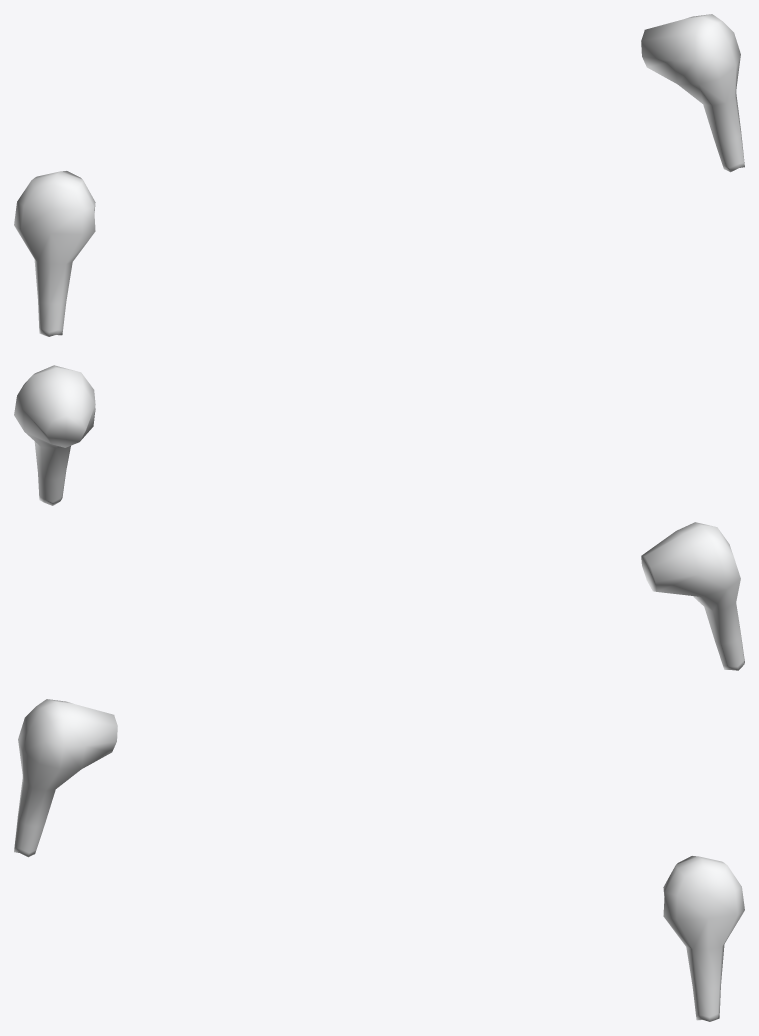
Rendered from Headphones_02.glb.
The picture shows the model from 3 angles, top to bottom: view 1: azimuth 30°, elevation 25°; view 2: azimuth 150°, elevation 25°; view 3: azimuth 330°, elevation 25°; orthographic projection.
Parts seen in each view (by area): view 1: Headphones_02; view 2: Headphones_02; view 3: Headphones_02.
Boxes of the visible parts, box(x1,y1,x2,y2) form: Headphones_02: box(14, 14, 744, 336); Headphones_02: box(14, 365, 744, 670); Headphones_02: box(14, 699, 744, 1021).
Size of the model in its own units: 0.6479 by 0.1271 by 0.0782.
1 material, 1 textured.
